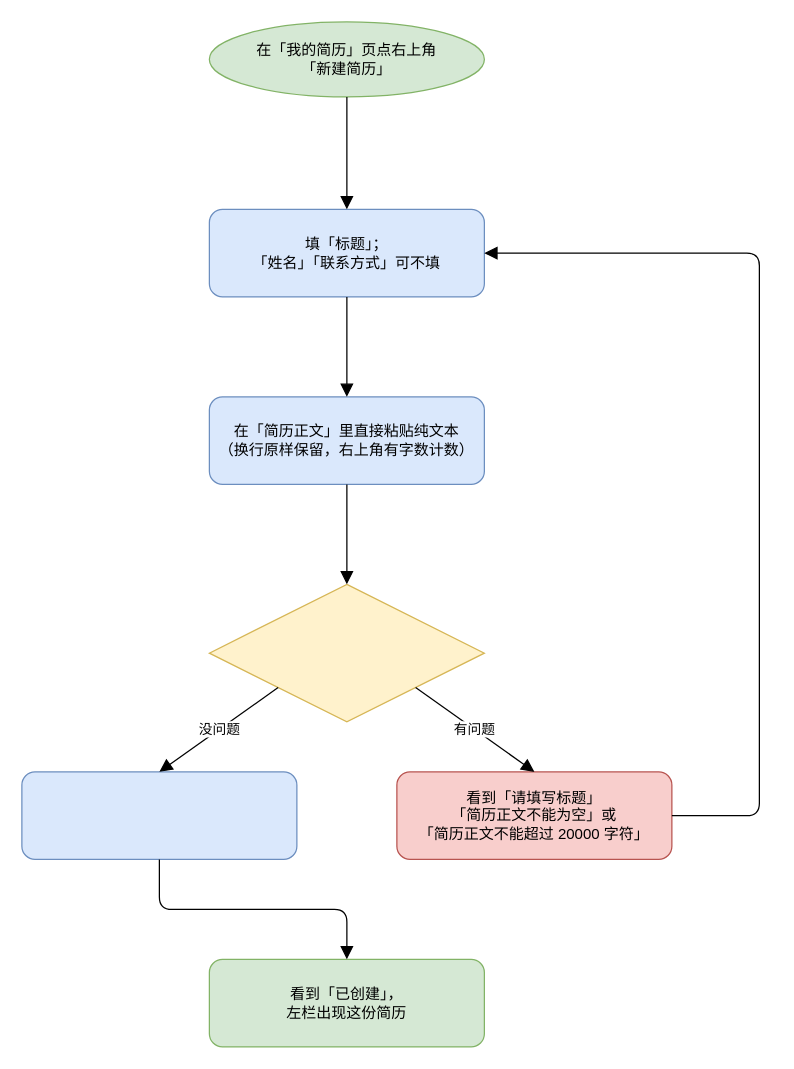
Some shapes in this 794 by 1069 pixel diagram are drawn without their labels. Here are the shapes that lost their labels. From the top down, the box of each, then its label:
(208, 583, 484, 722): 标题和正文都填了吗？ 字数没超 20000 吗？
(21, 771, 297, 859): 点「创建简历」
